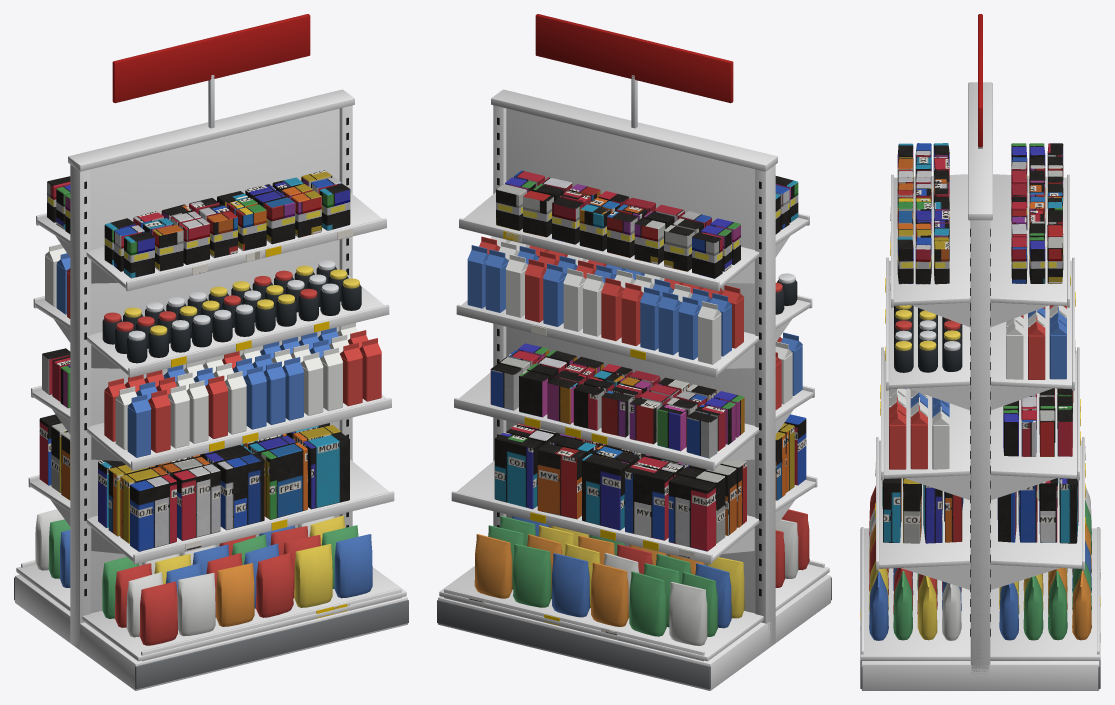
The model's file is ShelfGondola_Full.fbx.
3 views of the same model, side by side, from view 1: azimuth 30°, elevation 25°; view 2: azimuth 150°, elevation 25°; view 3: azimuth 270°, elevation 25° (orthographic).
Parts seen in each view (by area): view 1: ShelfGondola_Full; view 2: ShelfGondola_Full; view 3: ShelfGondola_Full.
Part boxes in pixels (bbox=[...]): ShelfGondola_Full: bbox=[14, 14, 408, 690]; ShelfGondola_Full: bbox=[437, 14, 831, 690]; ShelfGondola_Full: bbox=[860, 14, 1100, 690].
Size of the model in its own units: 1.26 by 2.52 by 0.97.
